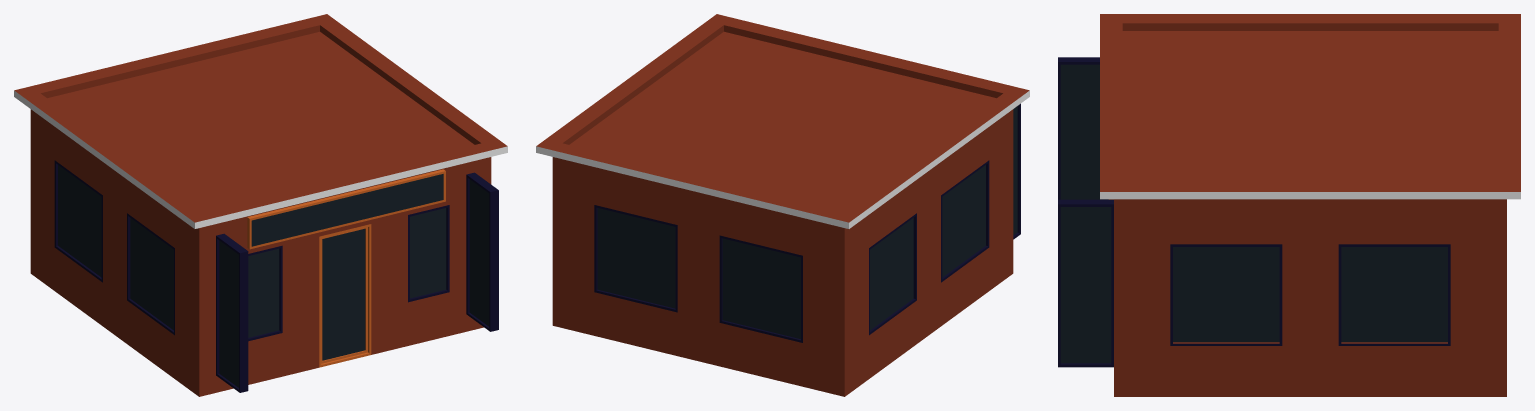
The model's file is Hanze_shop.fbx.
The picture shows the model from 3 angles, left to right: view 1: azimuth 30°, elevation 25°; view 2: azimuth 150°, elevation 25°; view 3: azimuth 270°, elevation 25°; orthographic projection. The views are drawn at different scales.
Visible parts, largest first — view 1: Box001; view 2: Box001; view 3: Box001.
Part boxes in pixels (bbox=[...]): Box001: bbox=[14, 14, 507, 396]; Box001: bbox=[536, 14, 1029, 396]; Box001: bbox=[1058, 14, 1520, 396].
Bounding box in the file's own units: 59.06 × 32.68 × 64.96.
